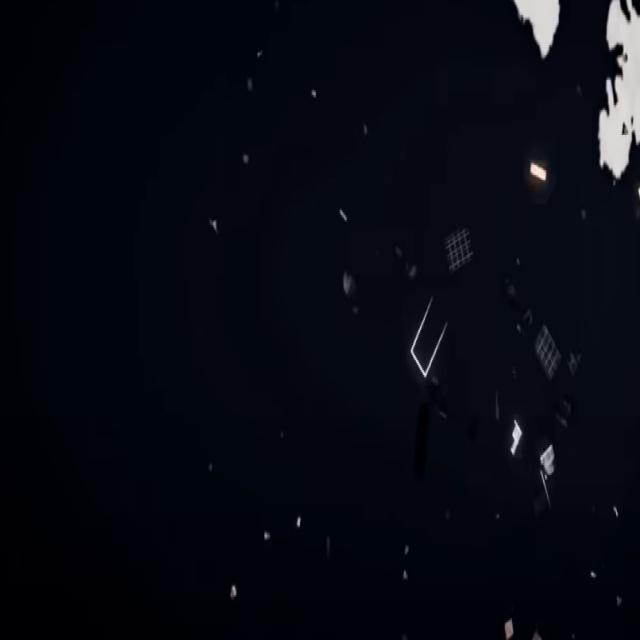large_debris: (399, 288, 451, 383), (532, 314, 564, 388), (444, 215, 476, 285), (536, 435, 562, 516), (506, 408, 526, 471), (526, 154, 551, 193), (502, 611, 517, 640)
